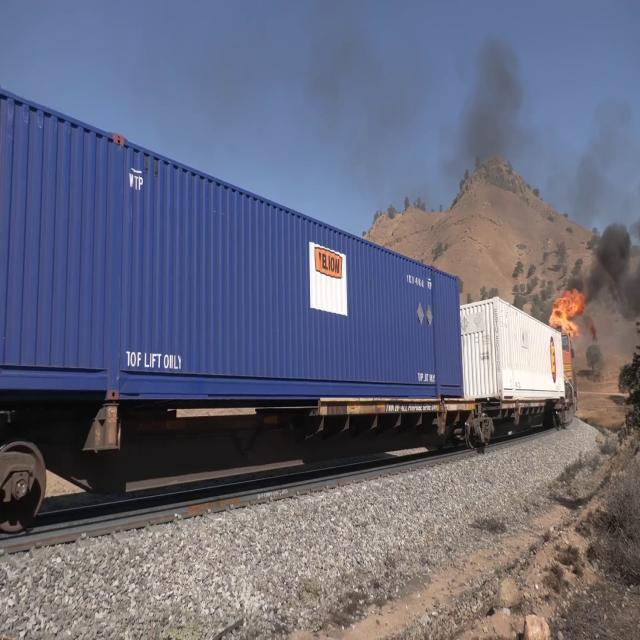Fire: (549, 280, 580, 336)
Smoke: (473, 43, 511, 153)
